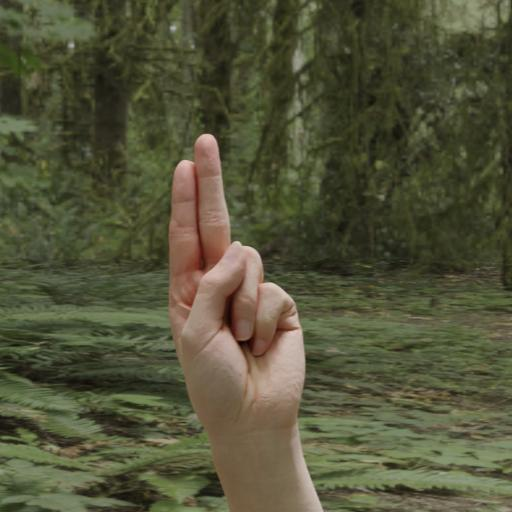U: (162, 128, 311, 432)
